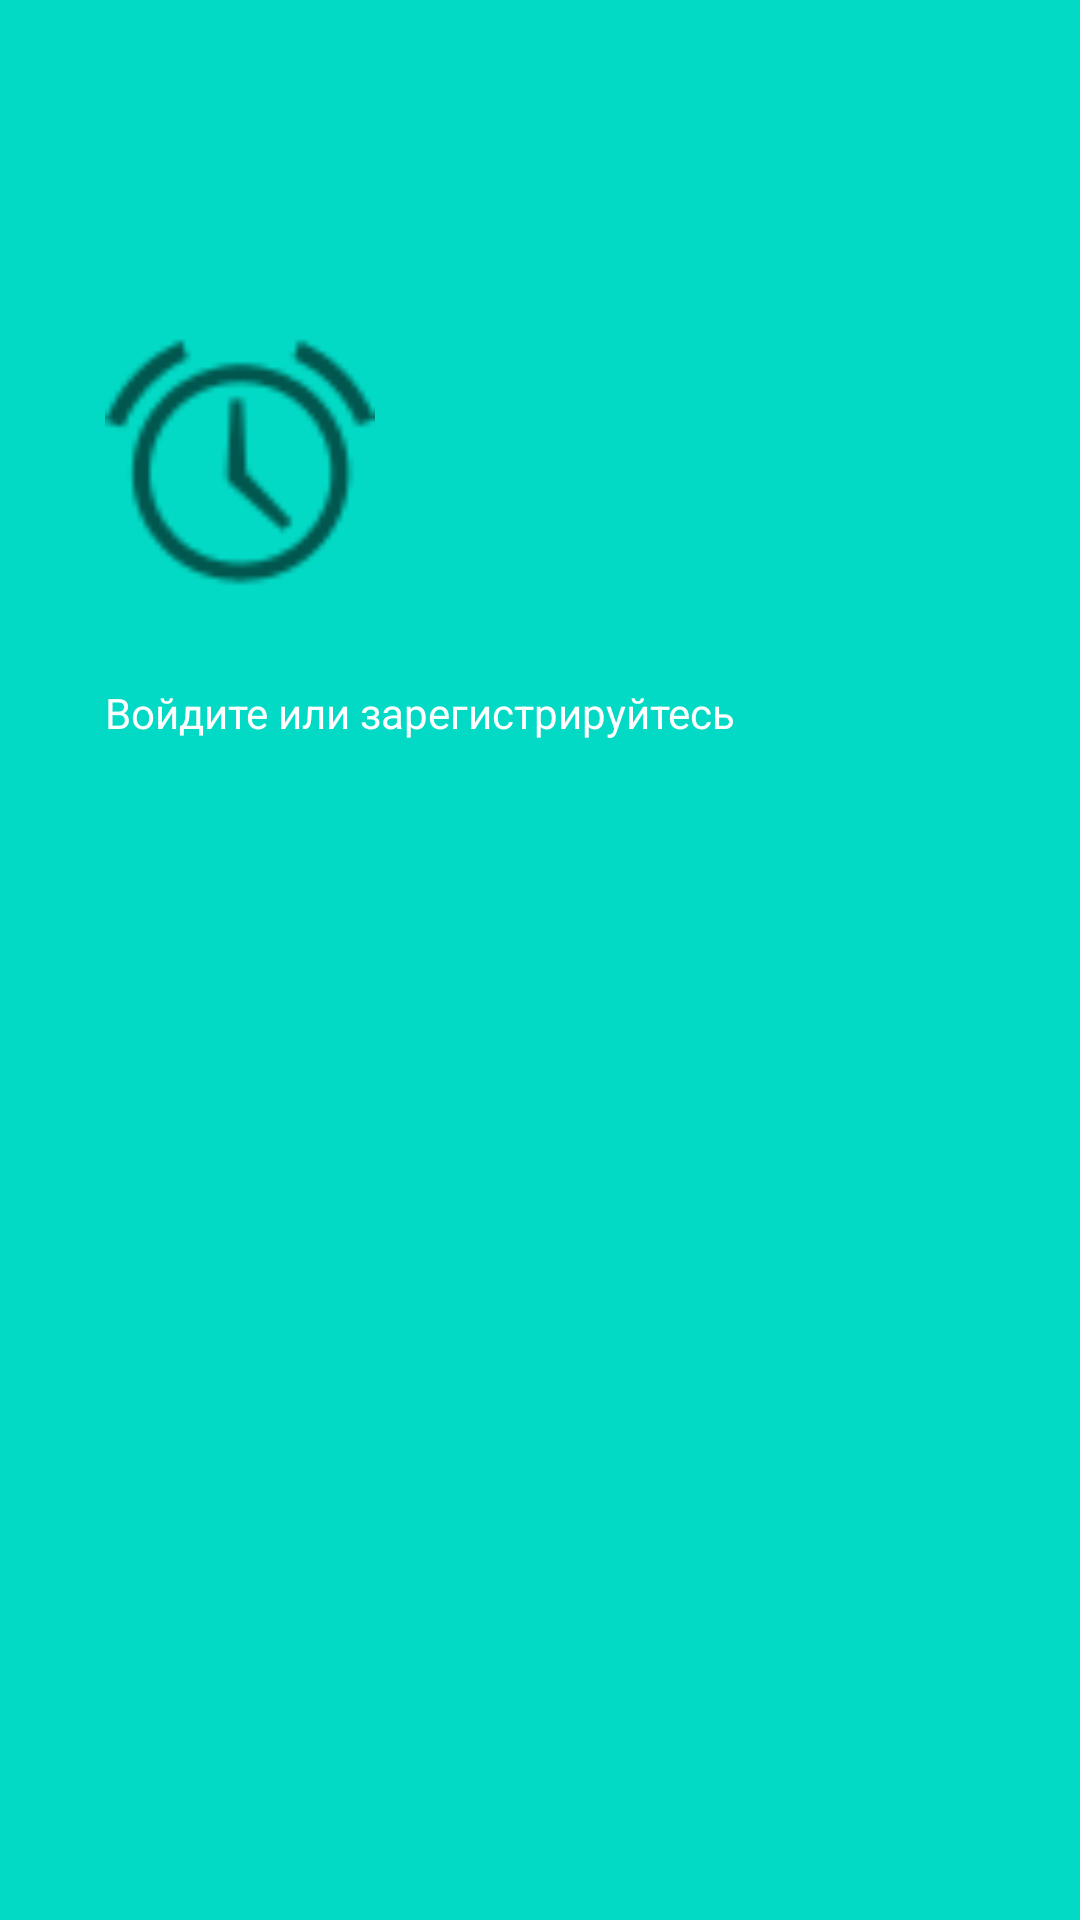

Icons on this 1080×1920 Android screen, each with the point to tap as point (x, y):
lock idle alarm: point (240, 462)
